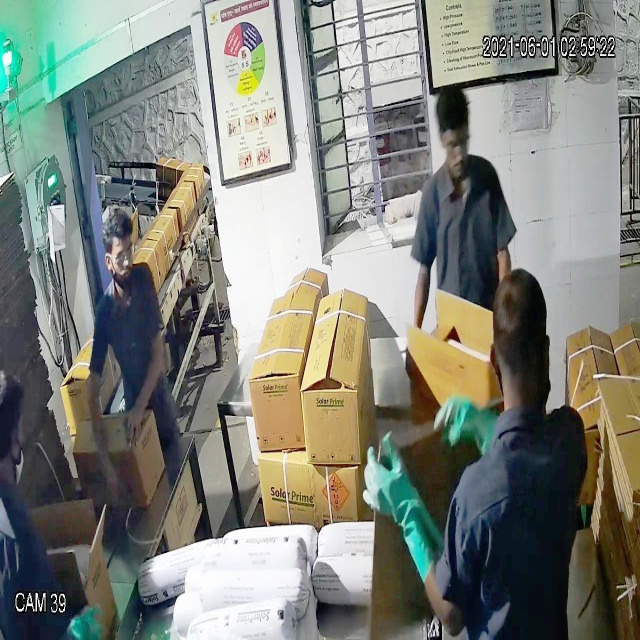Gafas: (99, 239, 138, 272)
